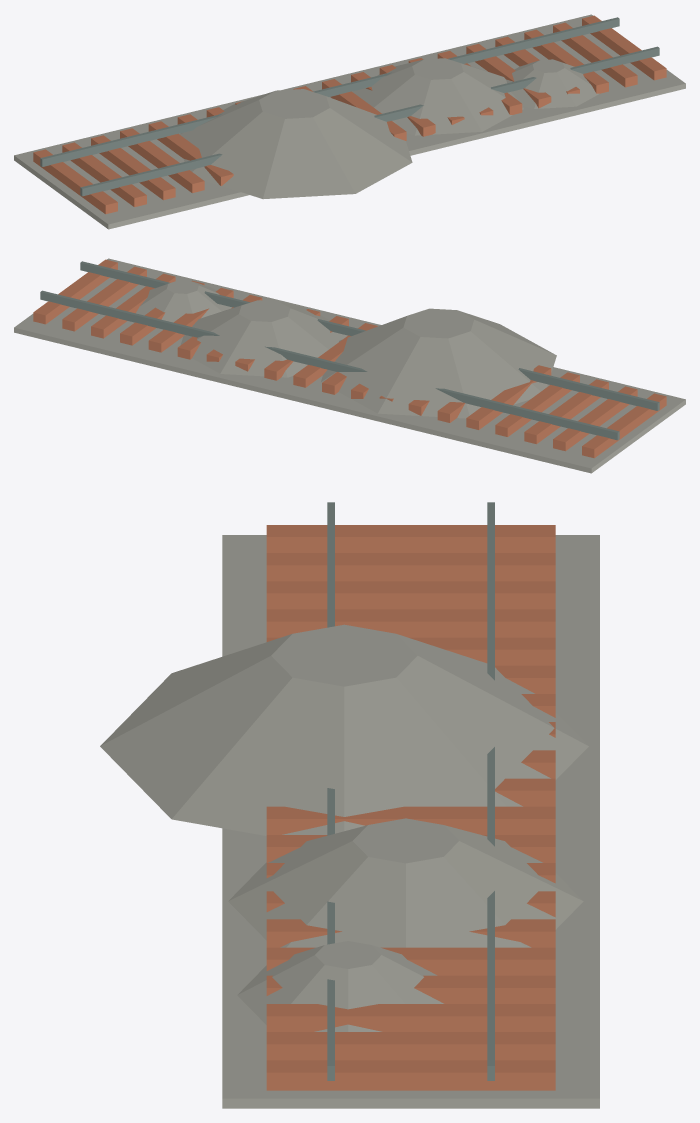
The model's file is SM_ViaRota_v4_Grava_LOD0.fbx.
3 renders of one model, top to bottom at view 1: azimuth 30°, elevation 25°; view 2: azimuth 150°, elevation 25°; view 3: azimuth 270°, elevation 25°, orthographic. The views are drawn at different scales.
Visible parts, largest first — view 1: SM_aqui_paso_algo_v9_LOD0; view 2: SM_aqui_paso_algo_v9_LOD0; view 3: SM_aqui_paso_algo_v9_LOD0.
Boxes of the visible parts, <box> form: SM_aqui_paso_algo_v9_LOD0: <box>14,14,685,229</box>; SM_aqui_paso_algo_v9_LOD0: <box>14,258,685,473</box>; SM_aqui_paso_algo_v9_LOD0: <box>100,502,599,1108</box>.
Bounding box in the file's own units: 12 × 1 × 4.5.
